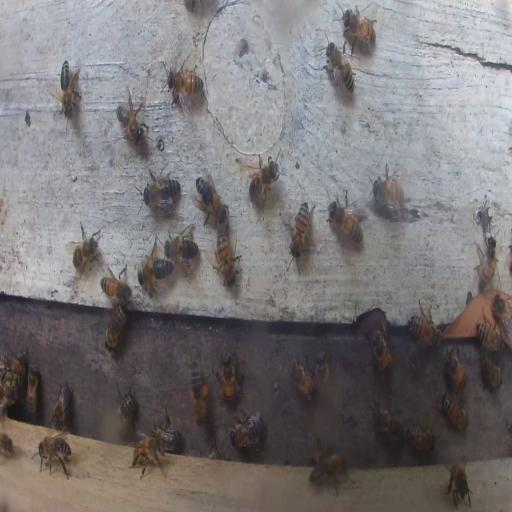nonpollenbee: (246, 150, 282, 212), (323, 39, 357, 95), (193, 173, 228, 227), (131, 431, 170, 479), (327, 192, 363, 244), (372, 164, 406, 218), (68, 219, 100, 275), (311, 448, 348, 496), (142, 169, 182, 212), (339, 6, 376, 52), (408, 304, 443, 352), (116, 92, 146, 146), (34, 434, 72, 476), (163, 223, 198, 268), (58, 58, 82, 118), (139, 250, 173, 292), (215, 231, 241, 284), (290, 200, 312, 257), (474, 239, 498, 291), (230, 410, 262, 449), (289, 356, 315, 402), (164, 68, 205, 97), (214, 352, 237, 403), (372, 402, 402, 440), (446, 460, 470, 506), (104, 301, 126, 351), (50, 381, 72, 431), (440, 393, 468, 431), (444, 348, 468, 390), (100, 273, 131, 304), (403, 423, 435, 453), (476, 320, 503, 353), (115, 385, 136, 427), (372, 330, 392, 374), (1, 351, 26, 385), (492, 292, 512, 331), (26, 364, 40, 419), (314, 354, 329, 397), (153, 428, 179, 452), (2, 371, 19, 403), (485, 362, 502, 392), (0, 432, 12, 455), (208, 444, 222, 458)
pollenbee: (188, 362, 210, 428)
